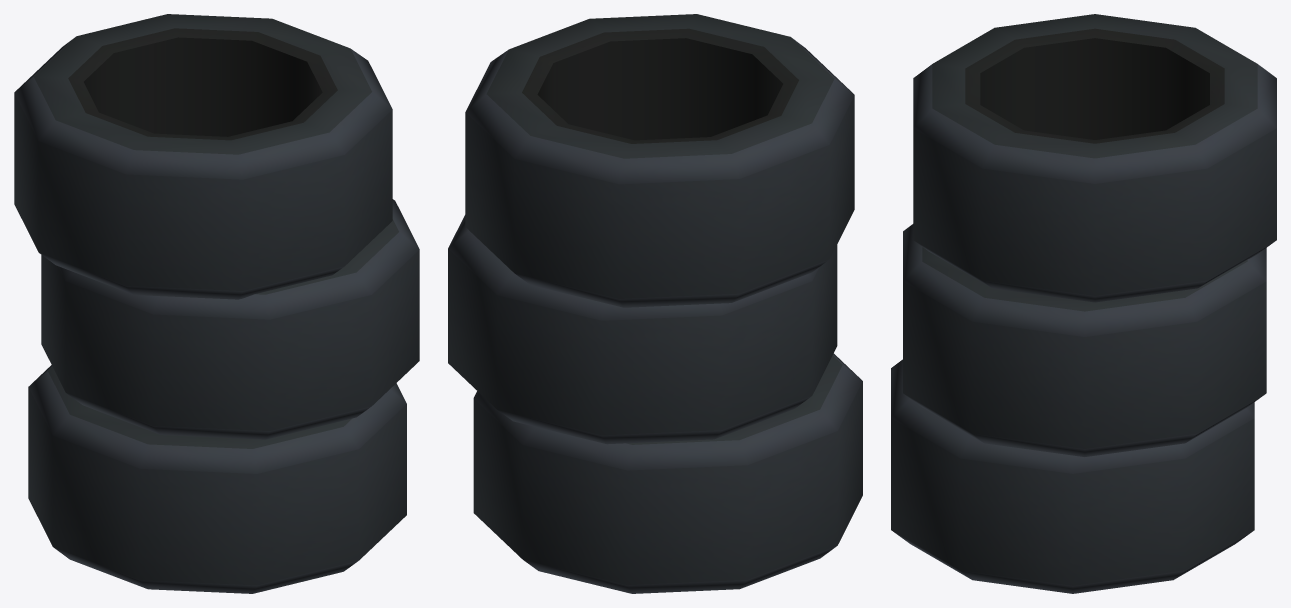
Rendered from tire_stack_02.fbx.
3 renders of one model, left to right at view 1: azimuth 30°, elevation 25°; view 2: azimuth 150°, elevation 25°; view 3: azimuth 270°, elevation 25°, orthographic. The views are drawn at different scales.
Visible parts, largest first — view 1: Tire_Stack_09; view 2: Tire_Stack_09; view 3: Tire_Stack_09.
Boxes of the visible parts, x1,y1,x2,y2 form: Tire_Stack_09: (14,14,419,593); Tire_Stack_09: (448,14,862,593); Tire_Stack_09: (891,14,1276,593).
Bounding box in the file's own units: 98.29 × 115 × 93.01.
